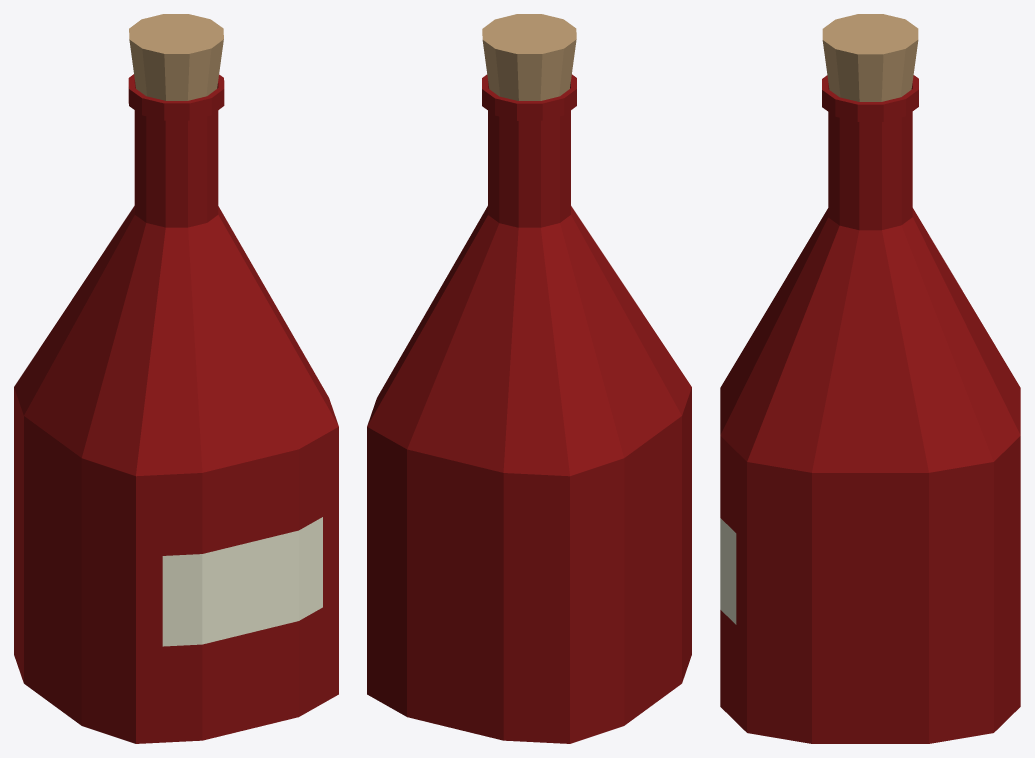
File: potion_red_2.fbx
The picture shows the model from 3 angles, left to right: view 1: azimuth 30°, elevation 25°; view 2: azimuth 150°, elevation 25°; view 3: azimuth 270°, elevation 25°; orthographic projection.
Visible parts, largest first — view 1: potion_red_2; view 2: potion_red_2; view 3: potion_red_2.
Part boxes in pixels (left/top/right/bottom): potion_red_2: left=14, top=14, right=338, bottom=743; potion_red_2: left=367, top=14, right=691, bottom=743; potion_red_2: left=720, top=14, right=1020, bottom=743.
Bounding box in the file's own units: 21.3 × 52.72 × 22.13.
